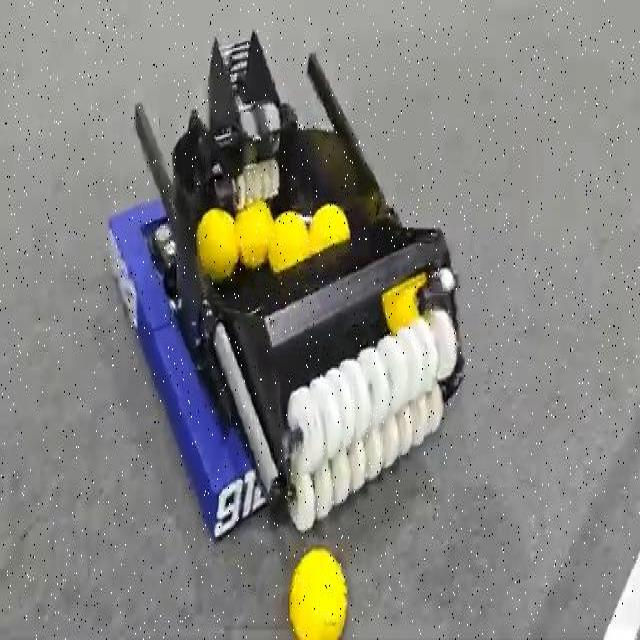Fuel: (289, 547, 347, 639), (289, 548, 347, 638), (196, 207, 237, 281), (196, 208, 238, 279), (268, 208, 310, 275), (235, 202, 274, 270), (235, 201, 273, 267), (268, 212, 309, 272), (310, 202, 351, 256), (383, 279, 422, 333), (309, 202, 350, 252), (308, 220, 329, 253)
